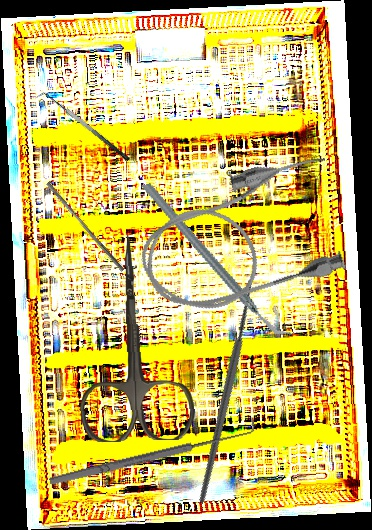Cannula: (124, 144, 361, 332)
Chopper: (140, 155, 292, 364)
Hook Surgical: (100, 252, 349, 504), (46, 416, 258, 489)
Iris Scissors: (72, 233, 196, 443)
Pusher: (42, 181, 129, 272)
Spatula Surgical: (36, 86, 131, 169)
